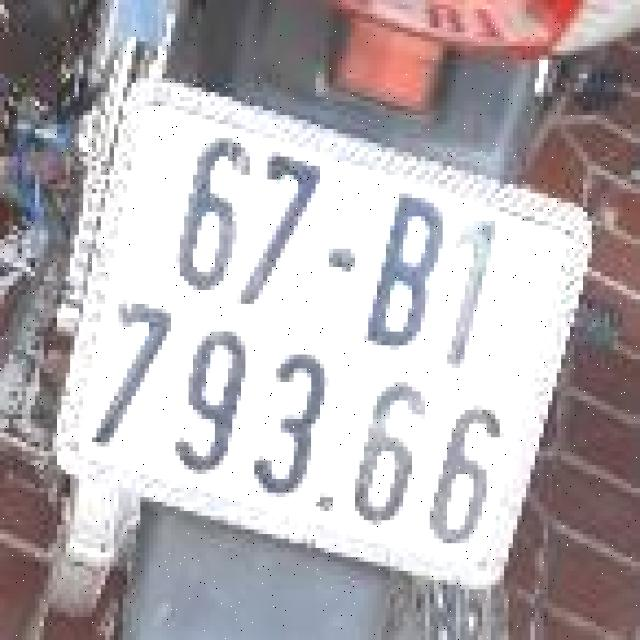1: (413, 204, 526, 388)
3: (238, 333, 358, 510)
6: (157, 122, 273, 306), (420, 381, 525, 563), (341, 367, 449, 540)
7: (226, 138, 341, 326), (80, 287, 189, 464)
9: (155, 312, 279, 492)
B: (356, 181, 466, 367)
